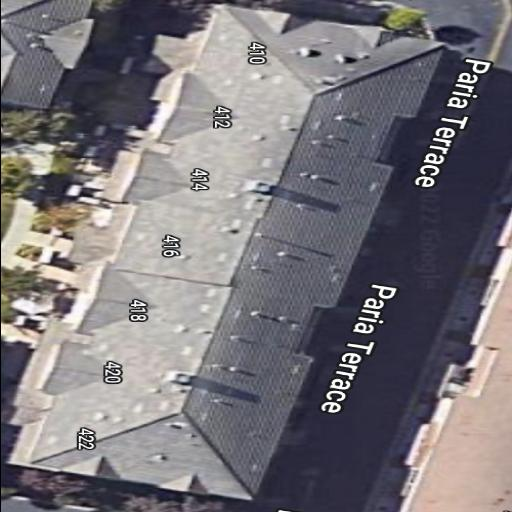Slope-Roof: (18, 1, 449, 506)
